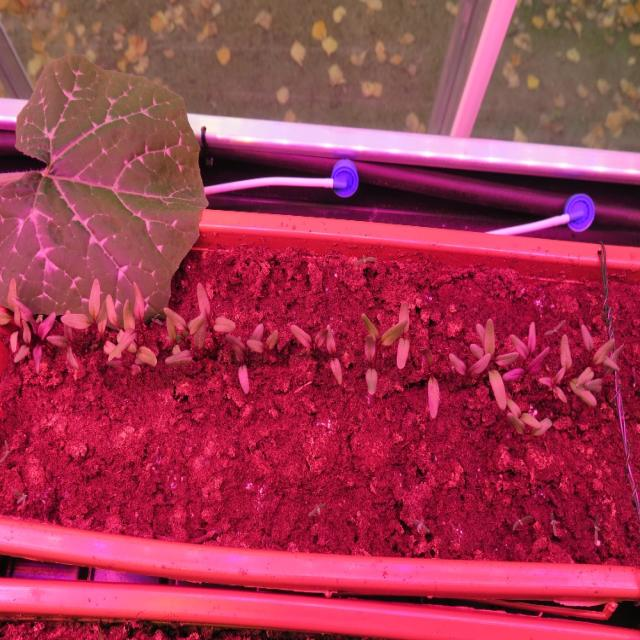crop: (417, 343, 439, 422)
weed: (408, 515, 430, 535), (512, 512, 532, 532), (592, 511, 602, 545), (307, 501, 325, 519), (12, 487, 26, 509), (548, 510, 558, 538)
